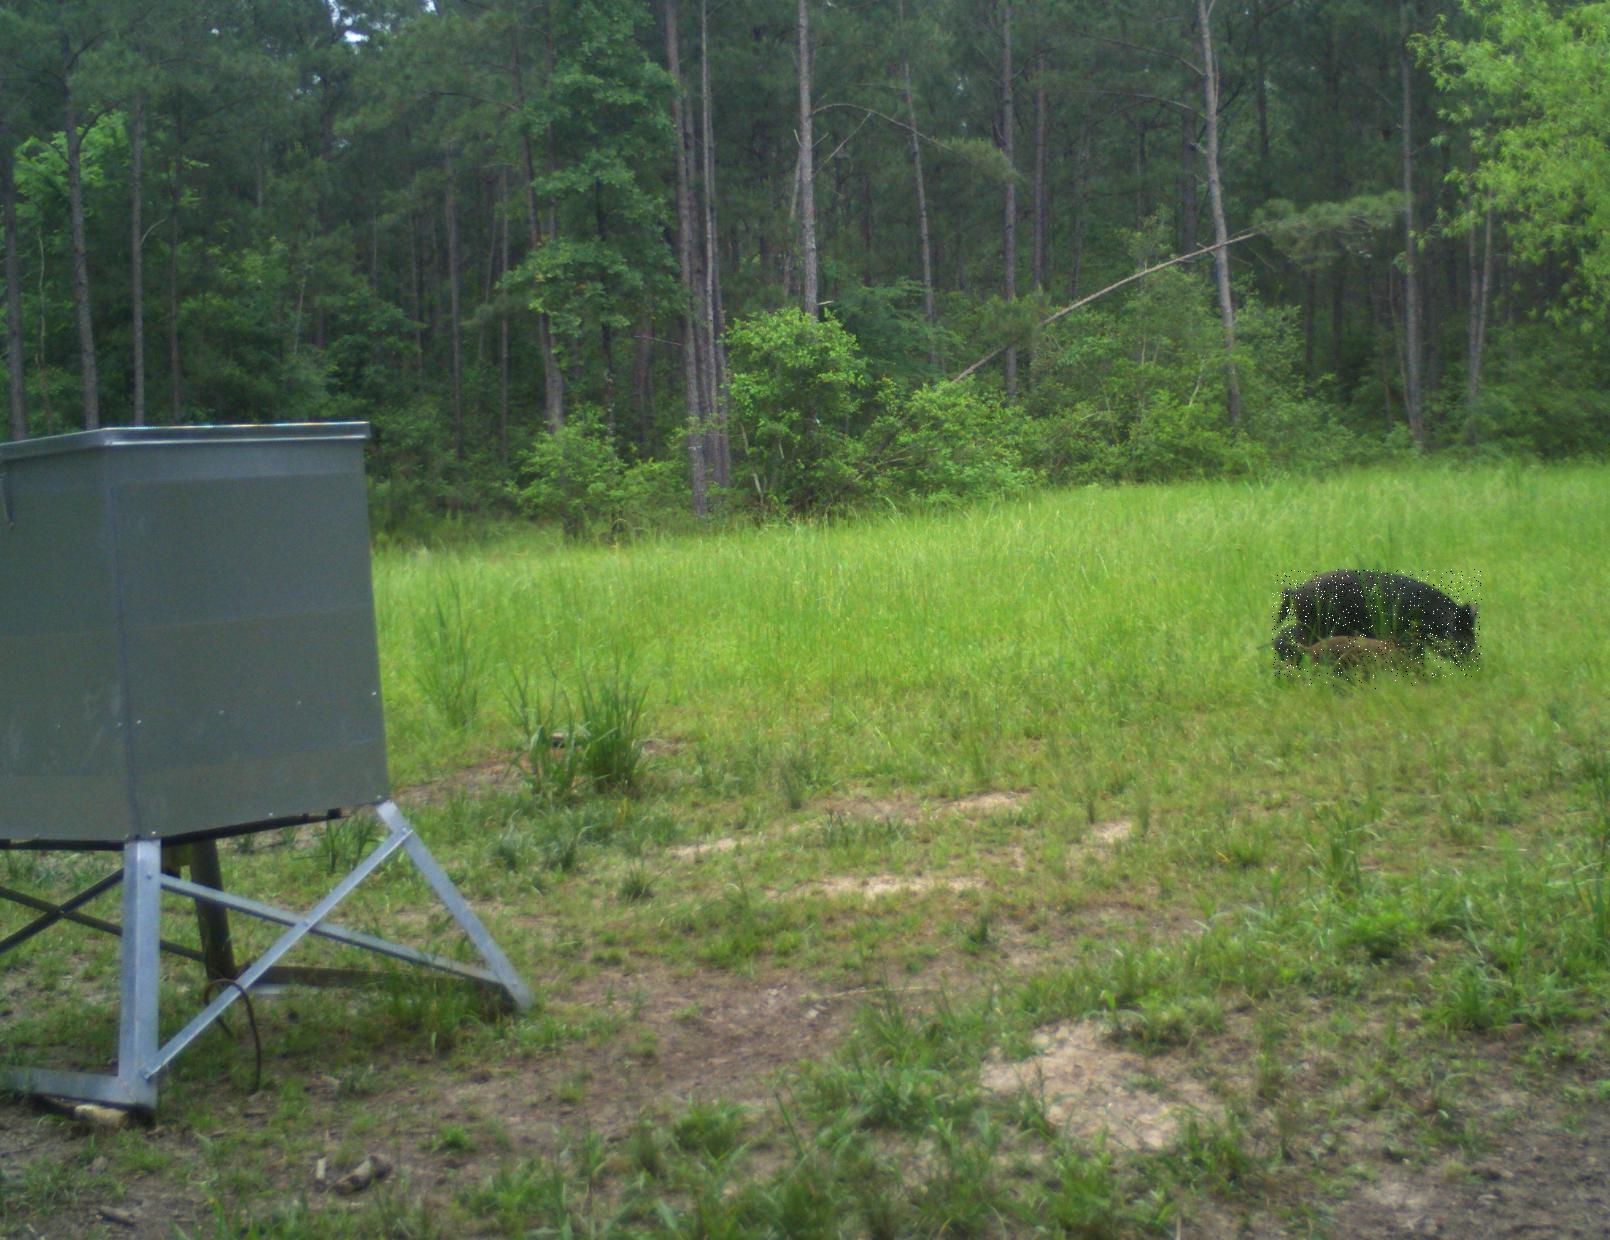Hog: (1273, 569, 1482, 677), (1303, 627, 1417, 689)
